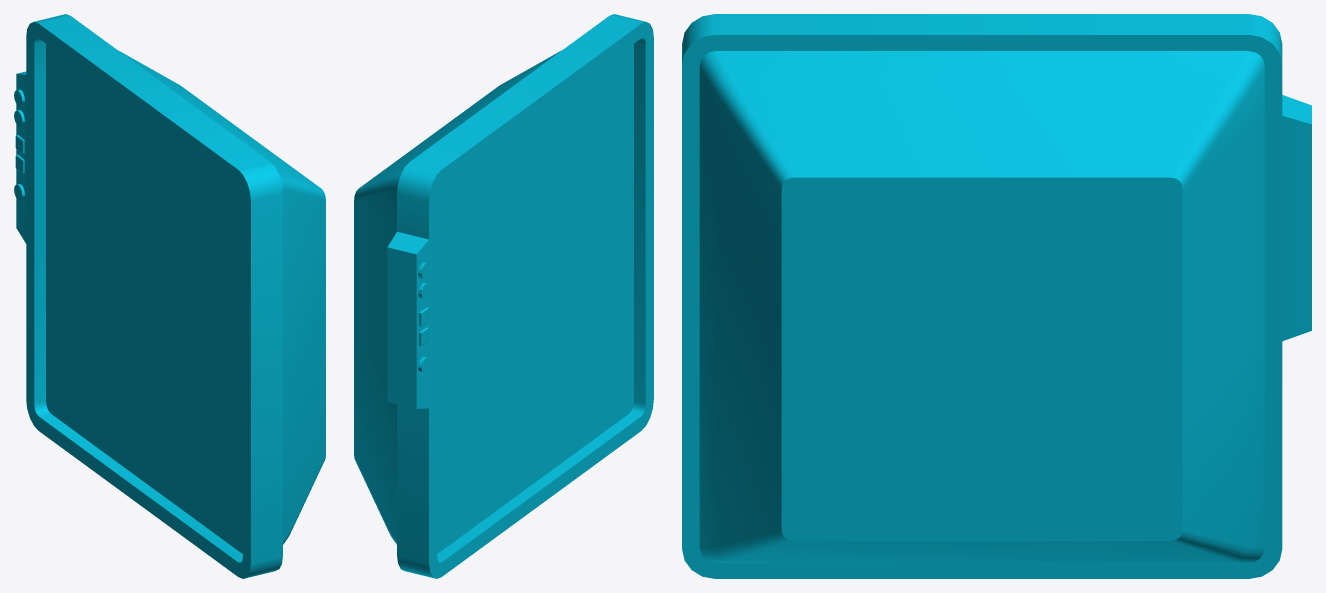
File: screen_03_LP.fbx
The picture shows the model from 3 angles, left to right: view 1: azimuth 30°, elevation 25°; view 2: azimuth 150°, elevation 25°; view 3: azimuth 270°, elevation 25°; orthographic projection. The views are drawn at different scales.
Visible parts, largest first — view 1: Screen_03_LP; view 2: Screen_03_LP; view 3: Screen_03_LP.
Part boxes in pixels (x1,y1,x2,y2): Screen_03_LP: (14,14,325,578); Screen_03_LP: (354,14,653,578); Screen_03_LP: (682,14,1311,578).
Size of the model in its own units: 11.38 by 38.61 by 40.52.
